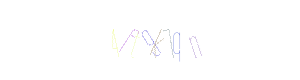4: (84, 0, 164, 80)
7: (127, 0, 207, 80)
9: (115, 0, 195, 80)
F: (88, 0, 168, 80)
K: (123, 0, 203, 80)
N: (147, 0, 227, 80)
Q: (130, 0, 210, 80)
T: (109, 0, 189, 80)
